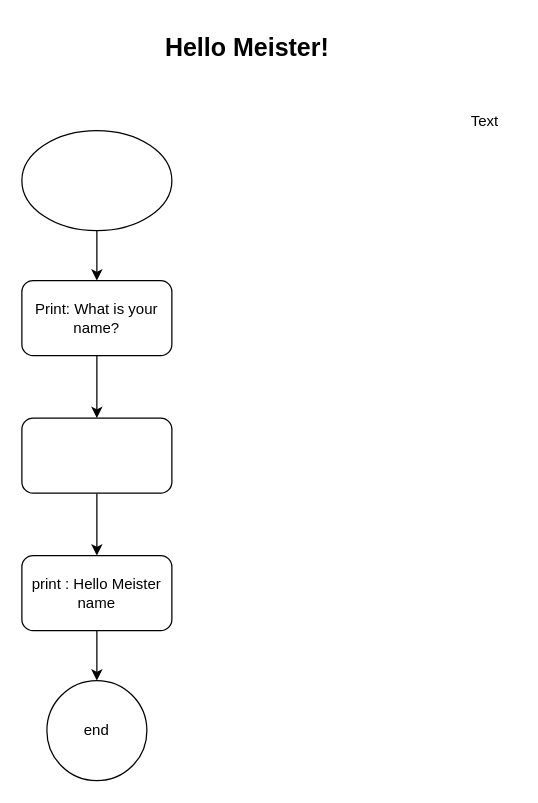
Some shapes in this 538 by 803 pixel diagram are drawn without their labels. The shapes that lost their labels are listed below. From the top down, each one's box as (x1, y1, x2, y2) in pixels, then its label:
(21, 129, 172, 231): start
(21, 417, 172, 493): input : name
